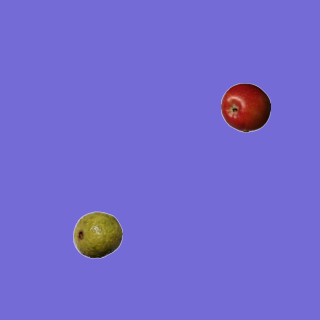Apple Braeburn: (220, 82, 270, 132)
Guava: (72, 209, 122, 259)
